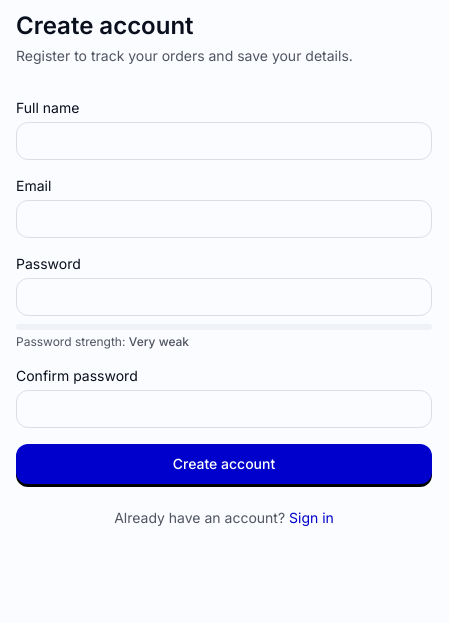
Test: RegisterPage › shows validation errors for invalid registration data
Type "bad-email" into the field labelled "Email".
click(224, 219); type("bad-email")  # box [16,200,432,238]
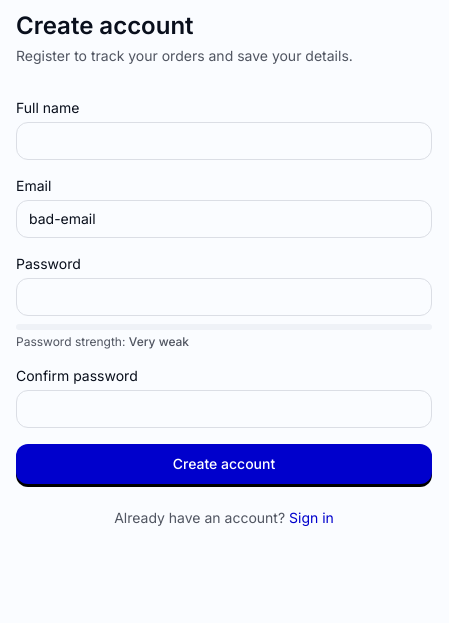
Type "12345" into the password field labelled "Password Password strength: Very weak".
click(224, 297); type("12345")  # box [16,278,432,316]
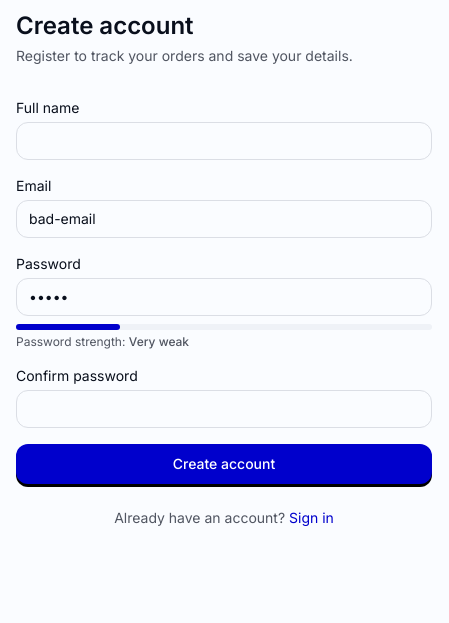
Type "54321" into the password field labelled "Confirm password".
click(224, 409); type("54321")  # box [16,390,432,428]
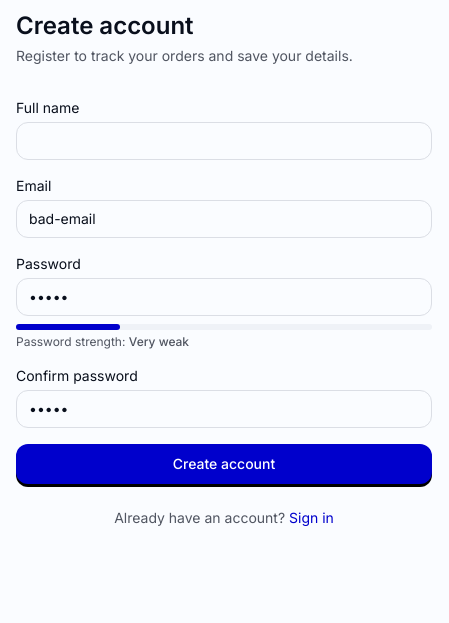
Click the button "Create account".
click(224, 464)  # box [16,444,432,484]
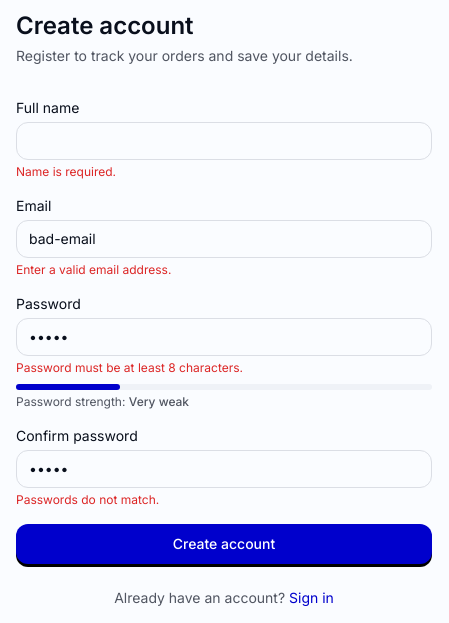
Expected: the text "Name is required." is shown, [16,164,116,179]
Expected: the text "Enter a valid email address." is shown, [16,262,171,277]
Expected: the text "Password must be at least 8 characters." is shown, [16,360,243,375]
